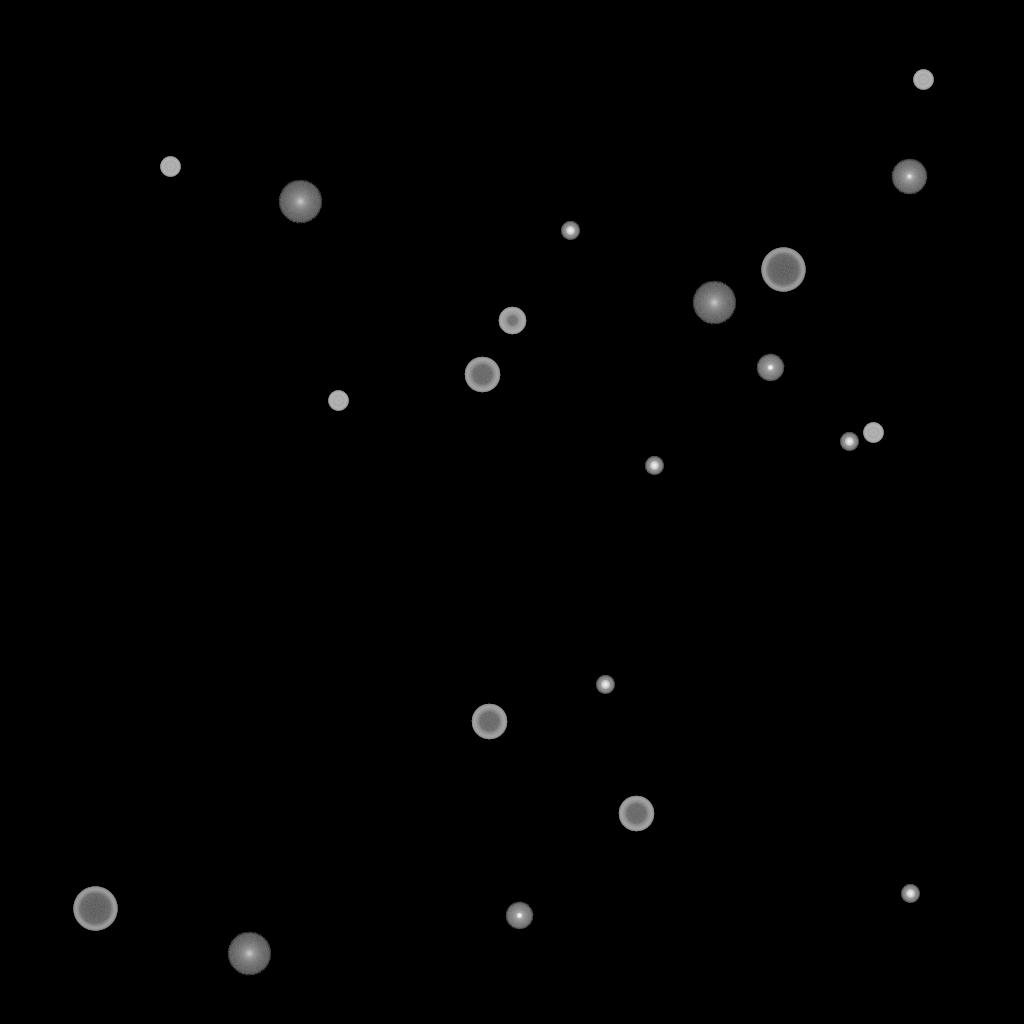depth:-10: (505, 902, 533, 930), (756, 354, 784, 382)
depth:-20: (840, 433, 858, 451), (901, 885, 919, 903), (596, 676, 614, 694), (645, 457, 663, 475), (561, 222, 579, 240)
depth:-40: (863, 423, 883, 443), (913, 70, 933, 90), (160, 157, 180, 177), (328, 391, 348, 411)
depth:-50: (498, 307, 526, 335)
depth:-60: (618, 796, 654, 832), (471, 704, 507, 740), (464, 357, 500, 393)
depth:-70: (73, 887, 117, 931), (761, 248, 805, 292)
depth:0: (891, 159, 927, 195)
depth:10: (227, 932, 271, 976), (692, 281, 736, 325), (278, 180, 322, 224)
